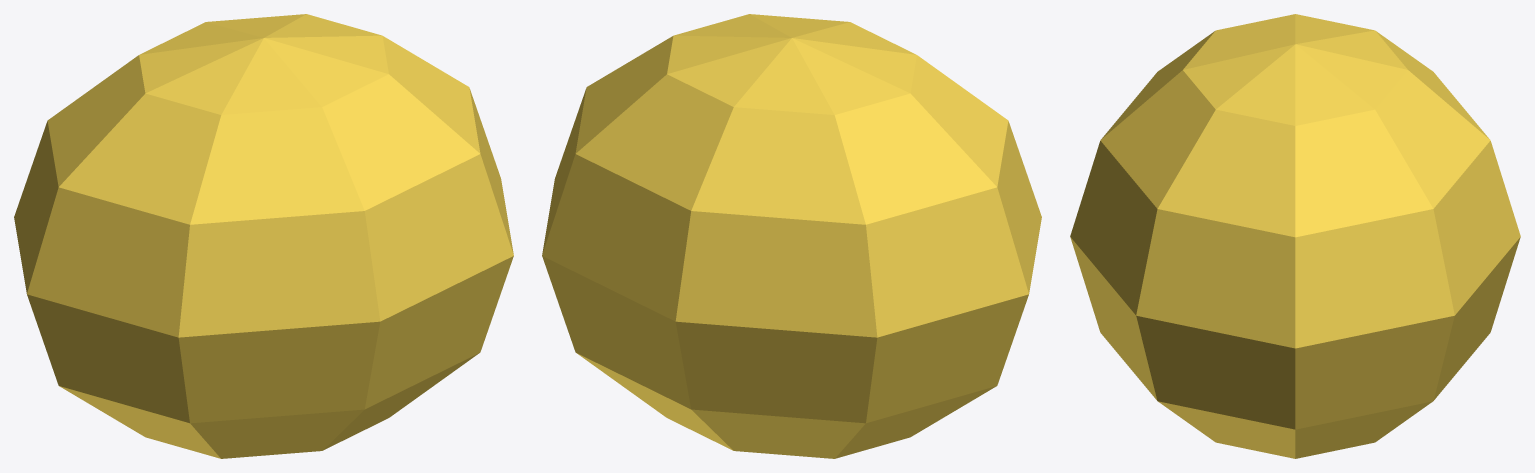
The model's file is sac.glb.
3 renders of one model, left to right at view 1: azimuth 30°, elevation 25°; view 2: azimuth 150°, elevation 25°; view 3: azimuth 270°, elevation 25°, orthographic. The views are drawn at different scales.
Parts seen in each view (by area): view 1: Sac; view 2: Sac; view 3: Sac.
Part boxes in pixels (x1,y1,x2,y2): Sac: (14,14,513,458); Sac: (542,14,1041,458); Sac: (1070,14,1520,458).
Size of the model in its own units: 0.4 by 0.32 by 0.34.
